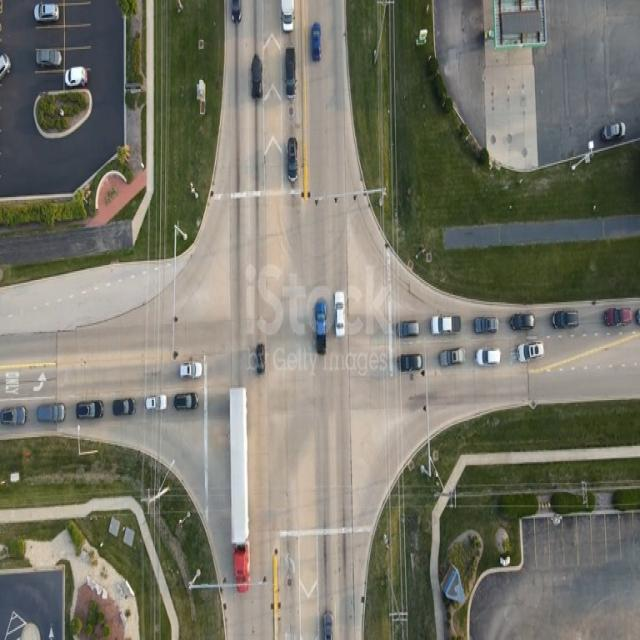car: (315, 300, 328, 353), (284, 48, 296, 100), (603, 307, 631, 328), (432, 316, 461, 336), (76, 398, 102, 420), (37, 404, 65, 424), (551, 311, 579, 331), (0, 408, 26, 429), (518, 343, 544, 363), (34, 2, 60, 22), (251, 58, 263, 101), (400, 354, 425, 374), (336, 293, 347, 338), (281, 0, 295, 33), (511, 313, 535, 332), (287, 138, 297, 183), (602, 122, 624, 142), (112, 397, 134, 417), (475, 317, 499, 335), (478, 349, 501, 367), (173, 393, 196, 411), (178, 361, 201, 379), (442, 350, 464, 368), (397, 321, 420, 338), (311, 25, 321, 64), (144, 395, 166, 411), (254, 344, 264, 377), (325, 614, 336, 640), (231, 0, 242, 24)
